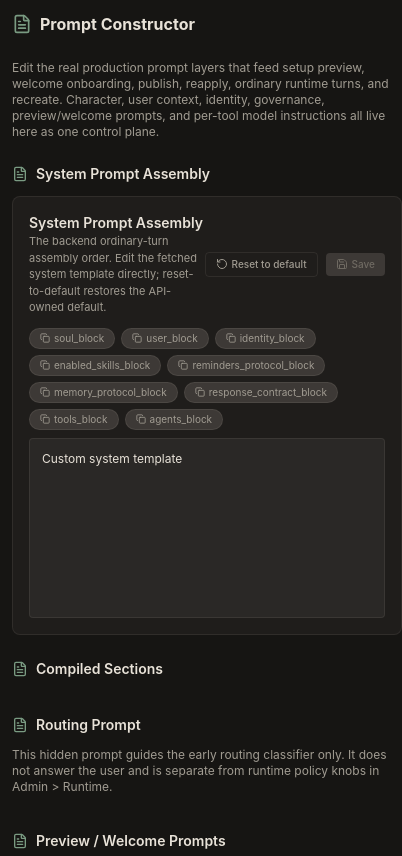
Test: AdminPresetsPage tool prompt defaults › does not PATCH a stale client-side prompt default when the reset API rejects
Click the button "Reset to default" at (261, 264), box 205,252 -> 318,277
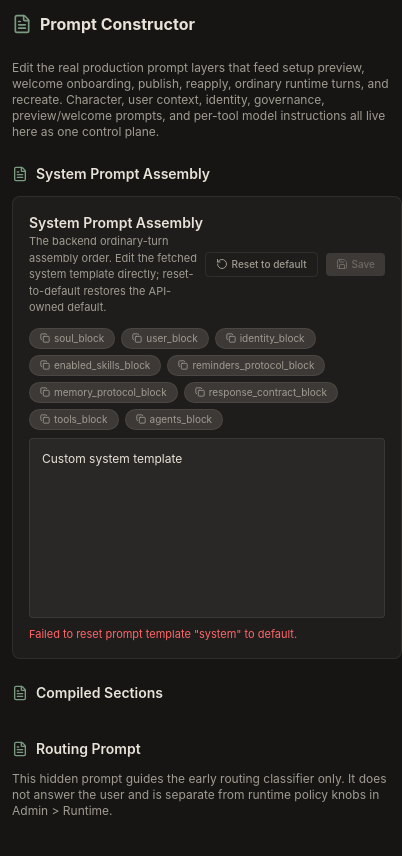
Expected: the text box "Custom system template" is shown, 29,438 -> 385,618
Expected: the text "Failed to reset prompt template \"system\" to default." is shown, 29,626 -> 297,640
